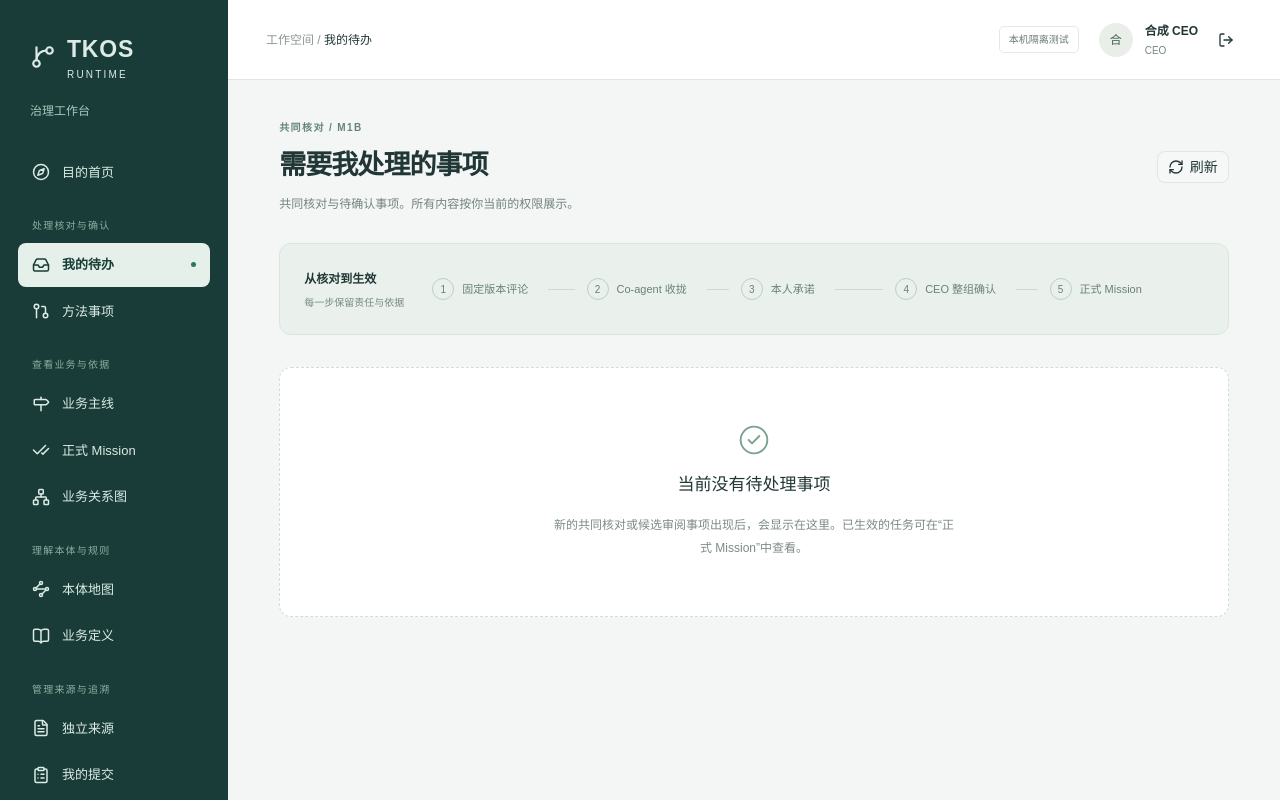
Test: exposes 独立来源 from the governance sidebar
The width and height of the screenshot is (1280, 800).
Click the button "独立来源" at coordinates (114, 728), box [18,706,210,750]
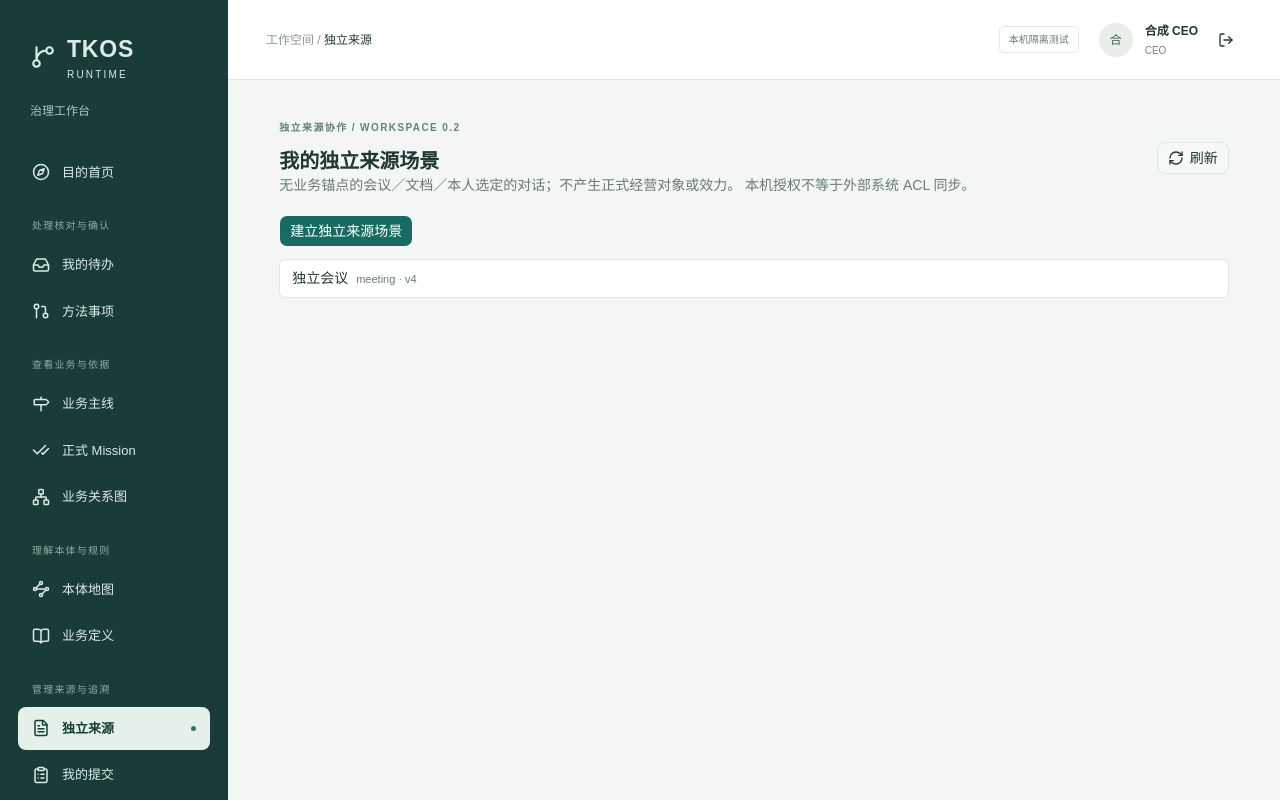
expect the element with test id "source-scenes" is shown: met, box [279,120,1229,298]
